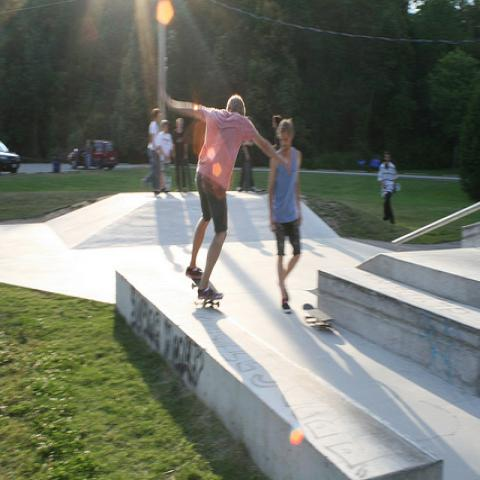car: (66, 140, 118, 170), (0, 140, 22, 172)
